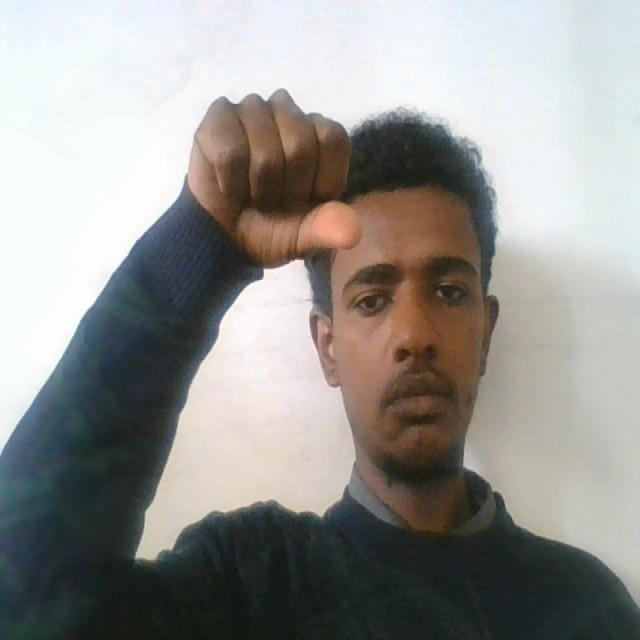yes: (185, 89, 360, 260)
